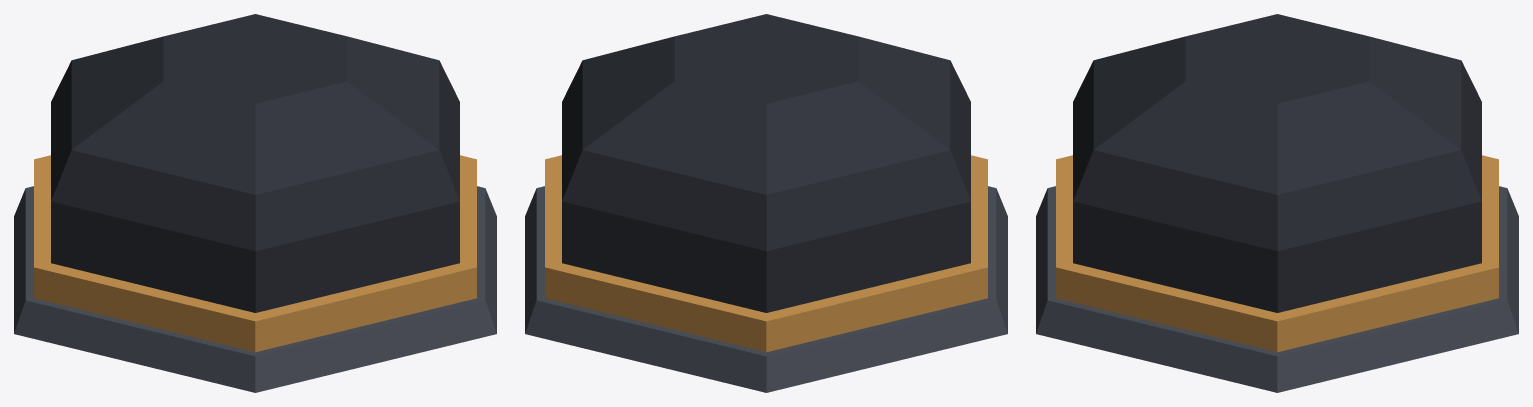
File: station_dome.glb
The picture shows the model from 3 angles, left to right: view 1: azimuth 30°, elevation 25°; view 2: azimuth 150°, elevation 25°; view 3: azimuth 270°, elevation 25°; orthographic projection.
Visible parts, largest first — view 1: body; view 2: body; view 3: body.
Boxes of the visible parts, x1,y1,x2,y2 form: body: (14,14,496,392); body: (525,14,1007,392); body: (1036,14,1518,392).
Bounding box in the file's own units: 3.27 × 1.4 × 2.83.
